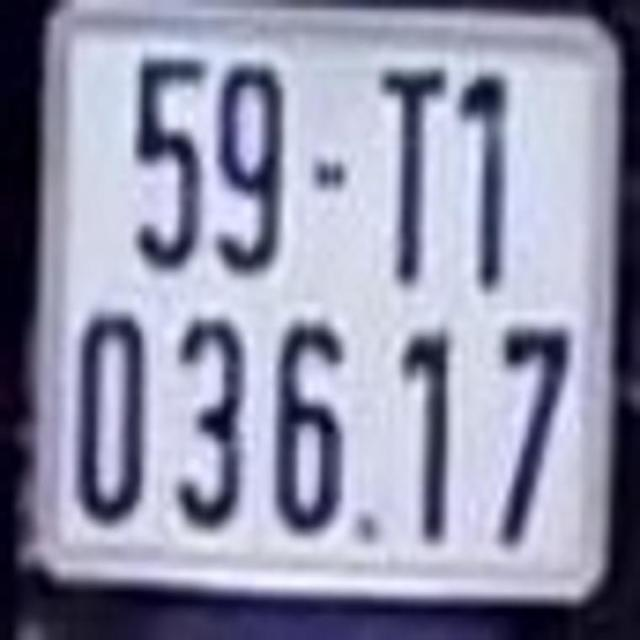0: (75, 310, 146, 523)
1: (399, 328, 454, 541), (458, 70, 511, 288)
3: (173, 312, 246, 528)
5: (133, 52, 205, 268)
6: (273, 316, 345, 534)
7: (497, 321, 572, 549)
9: (214, 58, 284, 274)
T: (377, 63, 447, 287)
